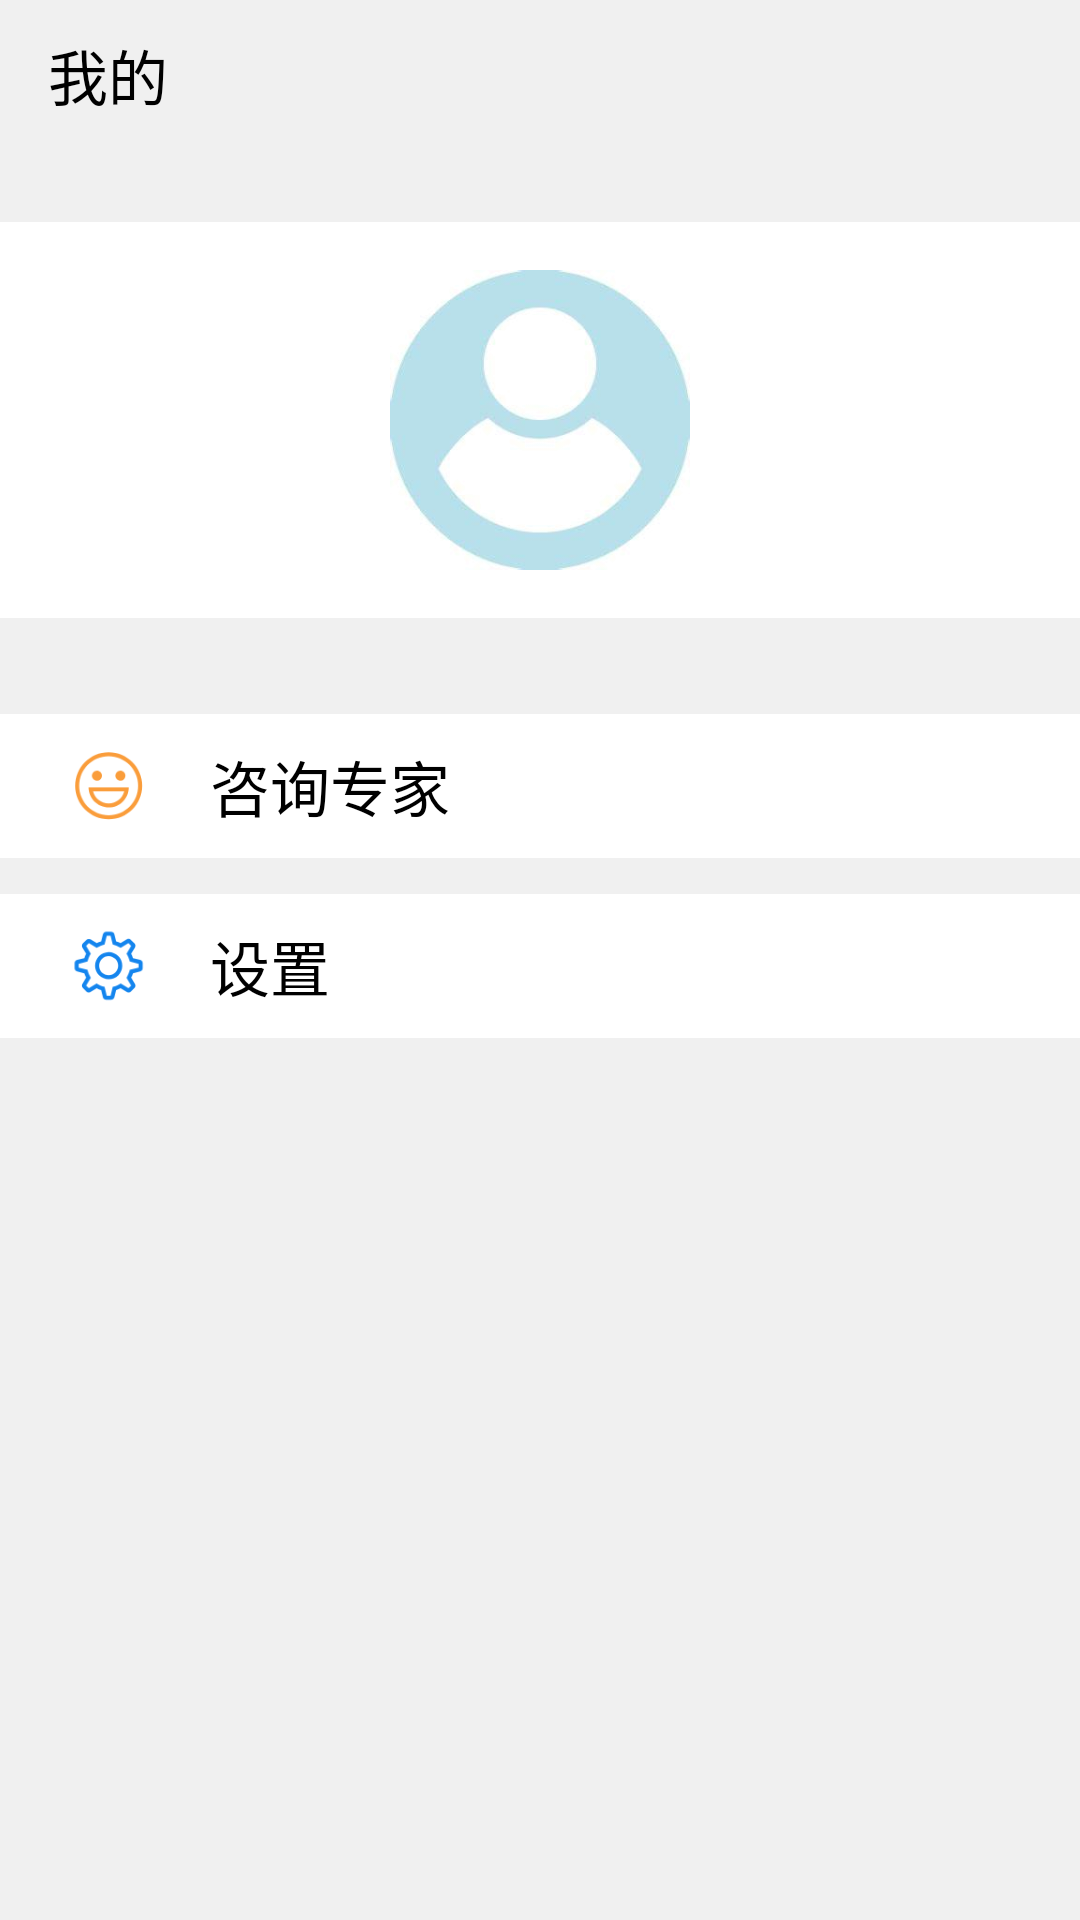

Named icons in this screenshot (1080px x 1920px) and their centers, (x=x, y=y):
frag user setting: (x=108, y=966)
